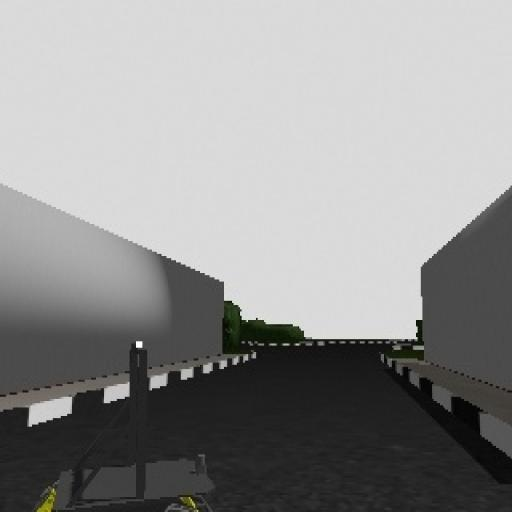huskya200: (16, 336, 219, 512)
